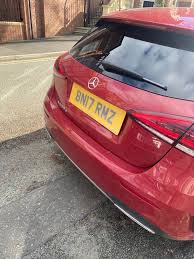number_plate: (54, 81, 135, 138)
